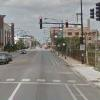Traffic light: (36, 15, 74, 33)
